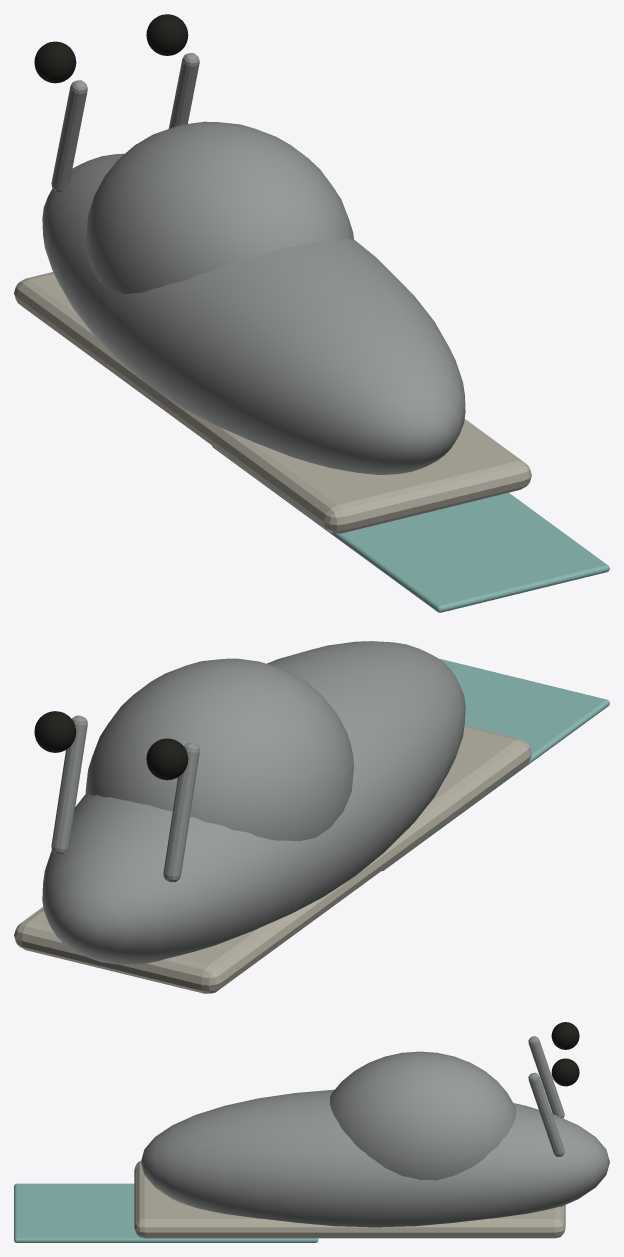
The model's file is giant_slug_4003.glb.
3 renders of one model, top to bottom at view 1: azimuth 30°, elevation 25°; view 2: azimuth 150°, elevation 25°; view 3: azimuth 270°, elevation 25°, orthographic. The views are drawn at different scales.
Parts seen in each view (by area): view 1: Four-foot slug body, Slug mantle, Slimy foot, Slime trail, Eye stalk, Slug eye.001, Slug eye, Eye stalk.001; view 2: Four-foot slug body, Slug mantle, Slimy foot, Slime trail, Eye stalk, Eye stalk.001, Slug eye.001, Slug eye; view 3: Four-foot slug body, Slug mantle, Slimy foot, Slime trail, Eye stalk.001, Eye stalk, Slug eye.001, Slug eye.
Boxes of the visible parts, <box> form: Four-foot slug body: <box>42,153,465,474</box>; Slug mantle: <box>85,121,353,294</box>; Slimy foot: <box>14,272,531,533</box>; Slime trail: <box>212,446,609,612</box>; Eye stalk: <box>51,80,87,192</box>; Slug eye.001: <box>146,14,188,55</box>; Slug eye: <box>34,41,76,83</box>; Eye stalk.001: <box>168,53,199,128</box>; Four-foot slug body: <box>42,641,465,964</box>; Slug mantle: <box>85,658,353,841</box>; Slimy foot: <box>14,725,531,993</box>; Slime trail: <box>381,659,609,871</box>; Eye stalk: <box>163,743,199,882</box>; Eye stalk.001: <box>51,715,87,854</box>; Slug eye.001: <box>34,711,76,752</box>; Slug eye: <box>146,738,188,780</box>; Four-foot slug body: <box>141,1089,609,1227</box>; Slug mantle: <box>330,1051,515,1180</box>; Slimy foot: <box>134,1160,565,1238</box>; Slime trail: <box>14,1183,318,1242</box>; Eye stalk.001: <box>528,1072,564,1156</box>; Eye stalk: <box>528,1036,564,1118</box>; Slug eye.001: <box>551,1058,579,1086</box>; Slug eye: <box>551,1022,579,1049</box>.
Bounding box in the file's own units: 1.44 × 1.6 × 4.7.
